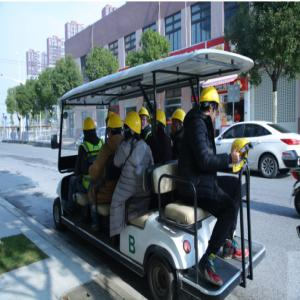yellow: (200, 87, 221, 123), (123, 113, 142, 145), (170, 109, 187, 136), (106, 115, 122, 141), (82, 118, 97, 140), (154, 110, 167, 135), (139, 109, 150, 130)
